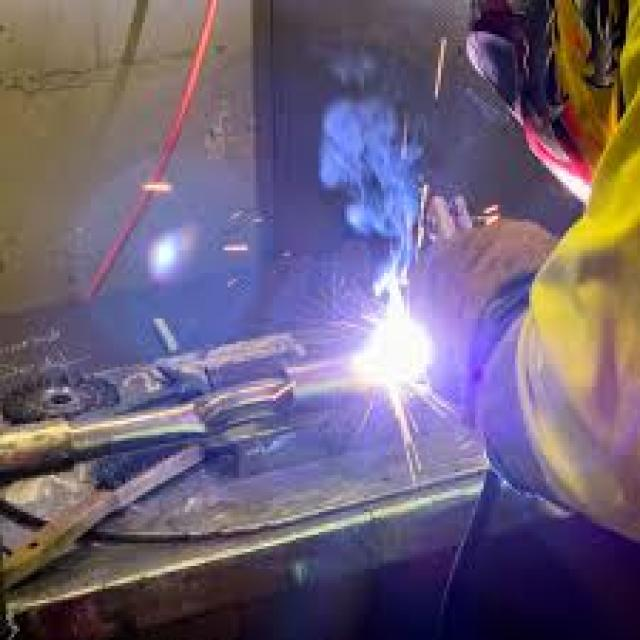welding: (364, 310, 433, 387)
